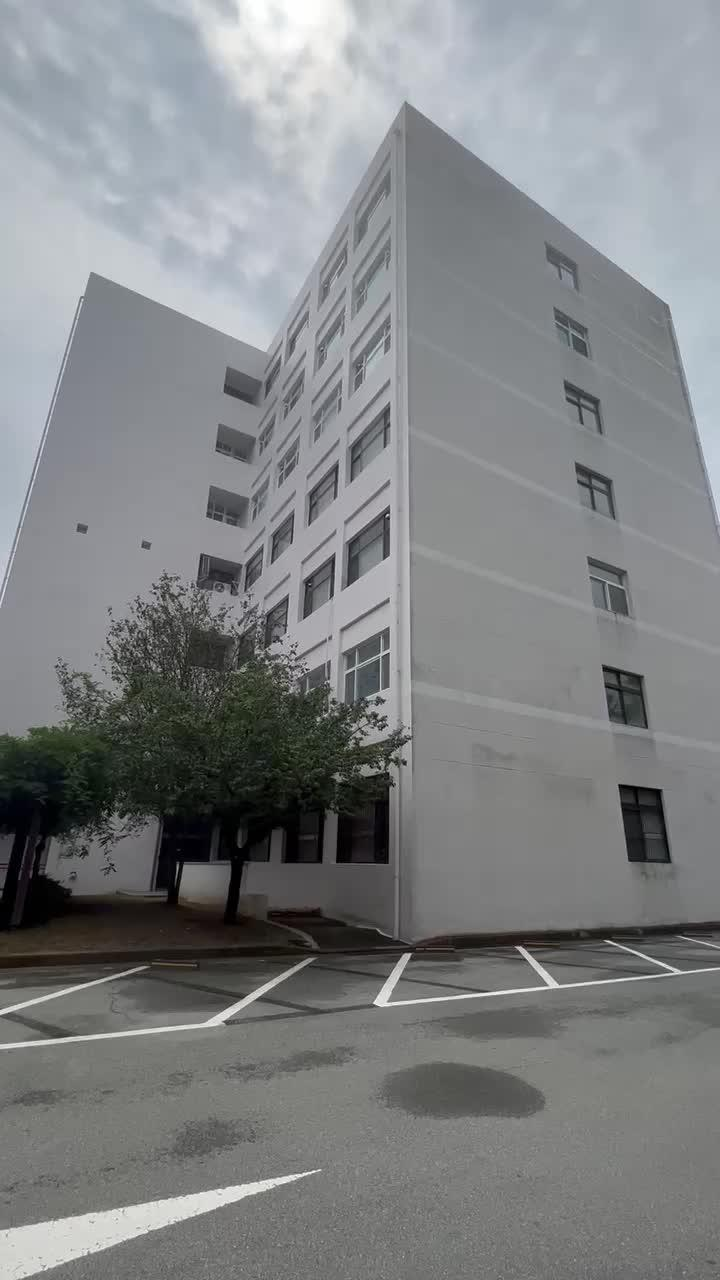building: (208, 162, 720, 620)
